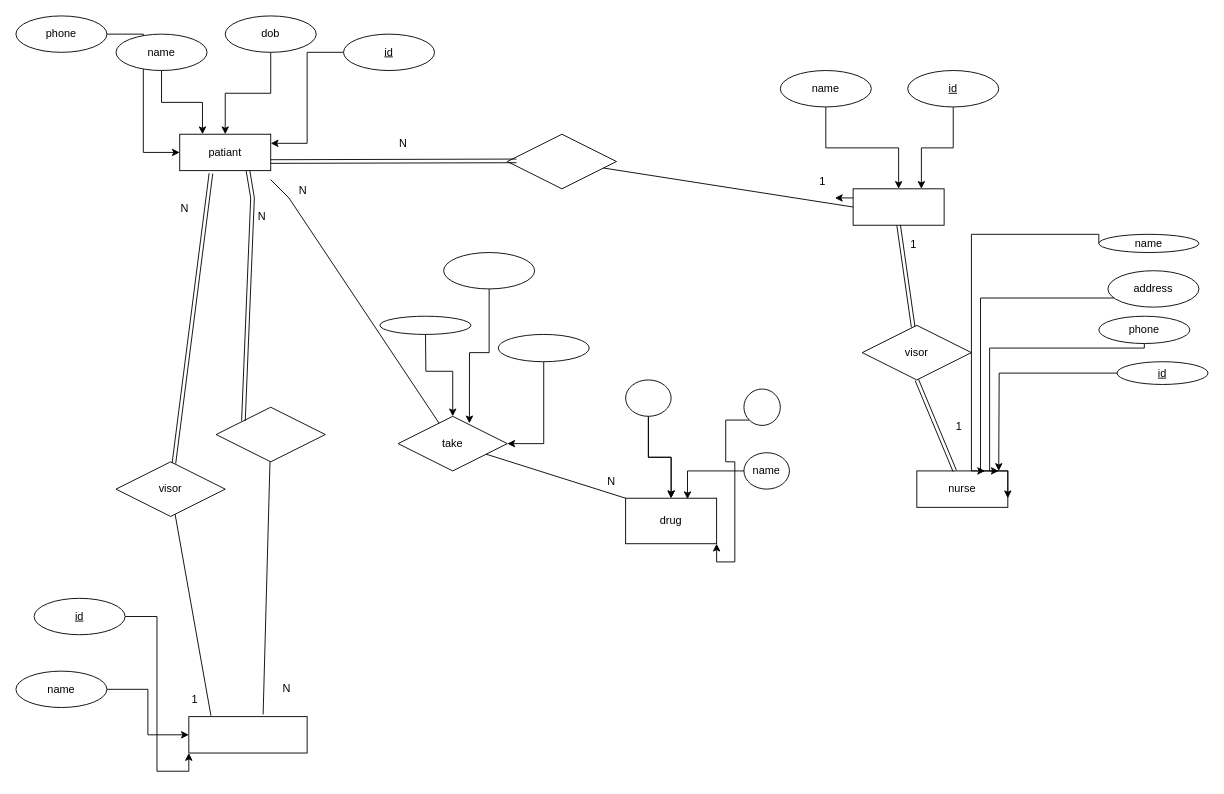
The diagram is 1224 pixels wide and 794 high, and some of its shapes have lost their labels. Each missing label, with the centre of its shape:
code: point (761, 406)
consntlant: point (247, 734)
date: point (543, 348)
examin: point (270, 434)
in: point (561, 161)
name prand: point (648, 397)
quantaty: point (425, 324)
time: point (489, 270)
ward: point (898, 206)
